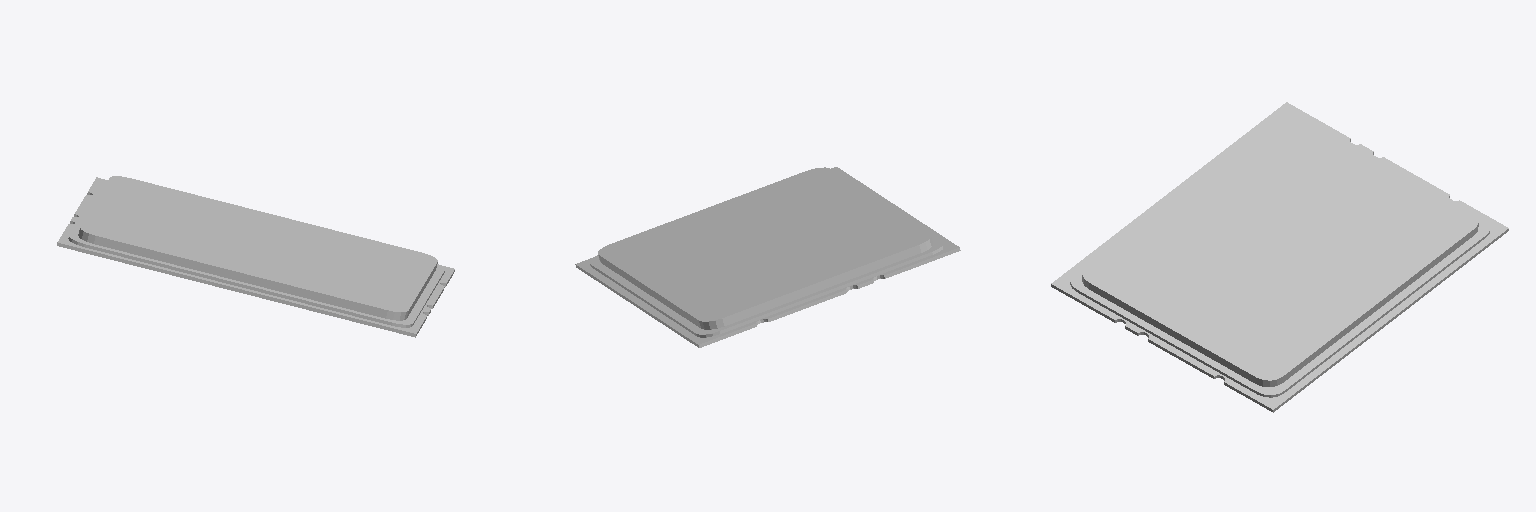
File: CPU.obj
3 renders of one model, left to right at view 1: azimuth 30°, elevation 25°; view 2: azimuth 150°, elevation 25°; view 3: azimuth 270°, elevation 25°, orthographic.
Parts seen in each view (by area): view 1: Cube.002_Mesh.001, Plane.004_Mesh; view 2: Cube.002_Mesh.001, Plane.004_Mesh; view 3: Cube.002_Mesh.001, Plane.004_Mesh.
Part boxes in pixels (bbox=[...]): Cube.002_Mesh.001: bbox=[68, 176, 444, 327]; Plane.004_Mesh: bbox=[57, 177, 454, 337]; Cube.002_Mesh.001: bbox=[589, 167, 944, 337]; Plane.004_Mesh: bbox=[575, 167, 960, 347]; Cube.002_Mesh.001: bbox=[1070, 112, 1489, 397]; Plane.004_Mesh: bbox=[1051, 102, 1508, 412].
Size of the model in its own units: 68.63 by 20.59 by 69.45.